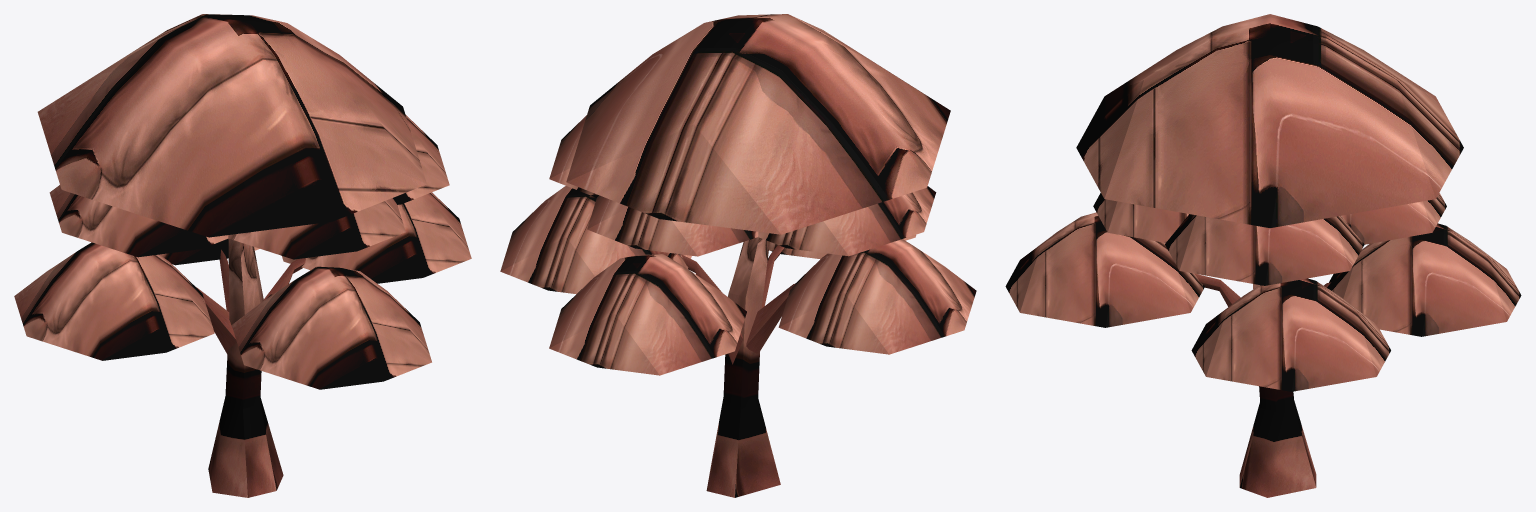
3 views of the same model, side by side, from view 1: azimuth 30°, elevation 25°; view 2: azimuth 150°, elevation 25°; view 3: azimuth 270°, elevation 25° (orthographic). The views are drawn at different scales.
Visible parts, largest first — view 1: 2_Cluster3, 1_Trunk; view 2: 2_Cluster3, 1_Trunk; view 3: 2_Cluster3, 1_Trunk.
Boxes of the visible parts, left/top/right/bottom form: 2_Cluster3: left=14, top=14, right=471, bottom=389; 1_Trunk: left=196, top=238, right=305, bottom=497; 2_Cluster3: left=500, top=14, right=976, bottom=375; 1_Trunk: left=681, top=237, right=795, bottom=497; 2_Cluster3: left=1005, top=14, right=1521, bottom=391; 1_Trunk: left=1194, top=273, right=1330, bottom=497.
Size of the model in its own units: 192 by 192 by 199.
1 material, 1 textured.
